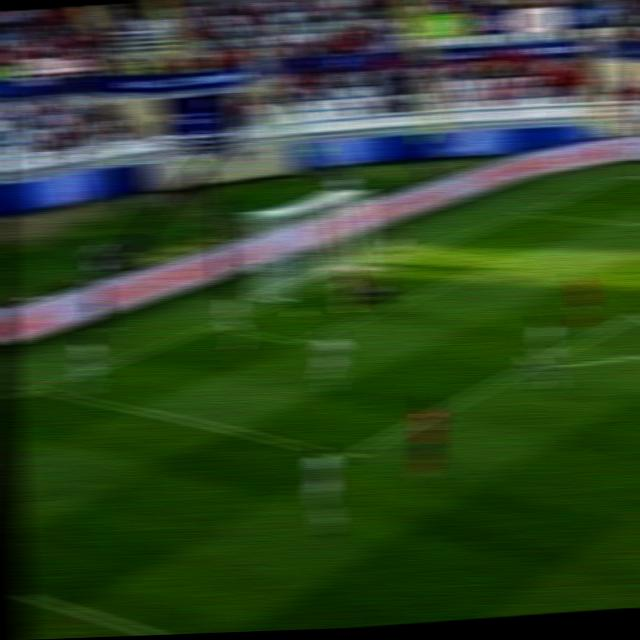bigarea_bottom_inner: (332, 441, 366, 469)
bigarea_bottom_outter: (22, 374, 57, 402)
bigarea_top_outter: (513, 203, 543, 220)
bottom_arc_area_intersection: (524, 354, 551, 375)
corner: (619, 164, 640, 181)
smallarea_bottom_inner: (286, 327, 315, 351)
smallarea_bottom_outter: (199, 314, 232, 336)
smallarea_top_inner: (488, 249, 519, 270)
smallarea_top_outter: (412, 239, 442, 258)
top_arc_area_intersection: (524, 354, 551, 375)
